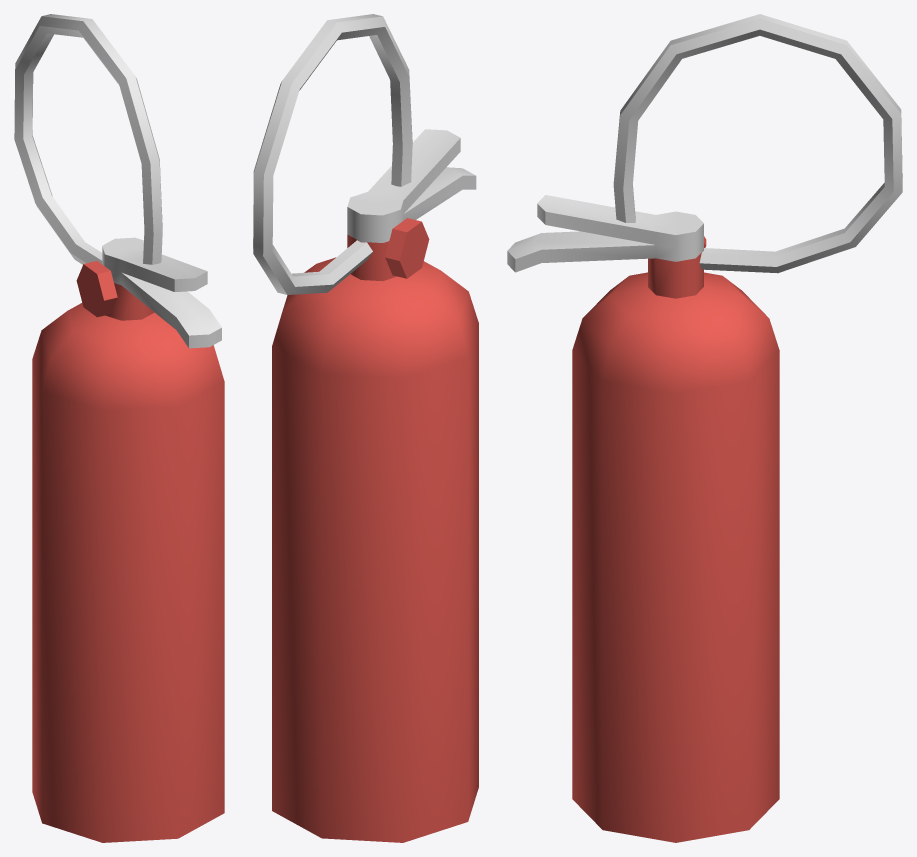
Rendered from Extintor de Incendio.fbx.
3 views of the same model, side by side, from view 1: azimuth 30°, elevation 25°; view 2: azimuth 150°, elevation 25°; view 3: azimuth 270°, elevation 25° (orthographic). The views are drawn at different scales.
Parts seen in each view (by area): view 1: Plano.007; view 2: Plano.007; view 3: Plano.007.
Part boxes in pixels (x1,y1,x2,y2): Plano.007: [14, 14, 224, 842]; Plano.007: [253, 14, 478, 842]; Plano.007: [507, 14, 902, 842].
Size of the model in its own units: 73.85 by 308 by 141.
